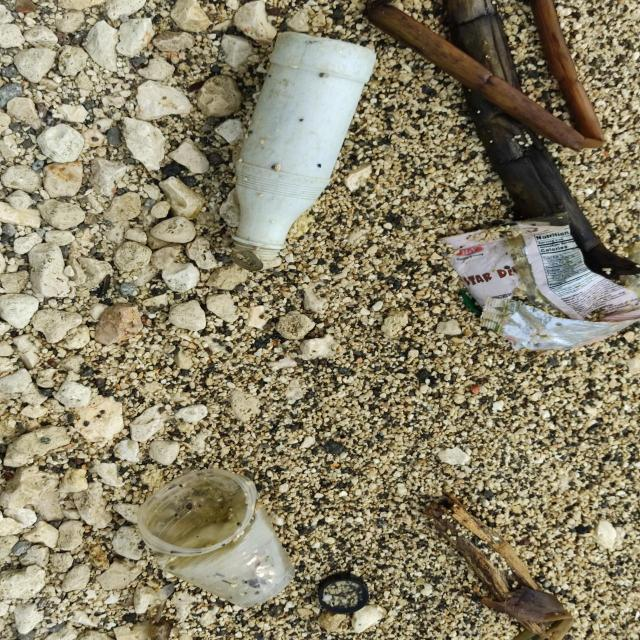plastic_waste: (228, 32, 379, 264), (436, 211, 640, 352), (136, 467, 299, 611)
wood_waste: (361, 1, 608, 153)
